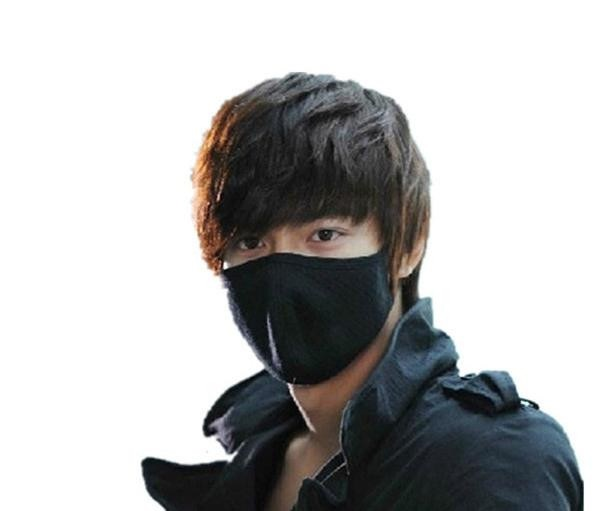face_mask: (218, 162, 389, 364)
